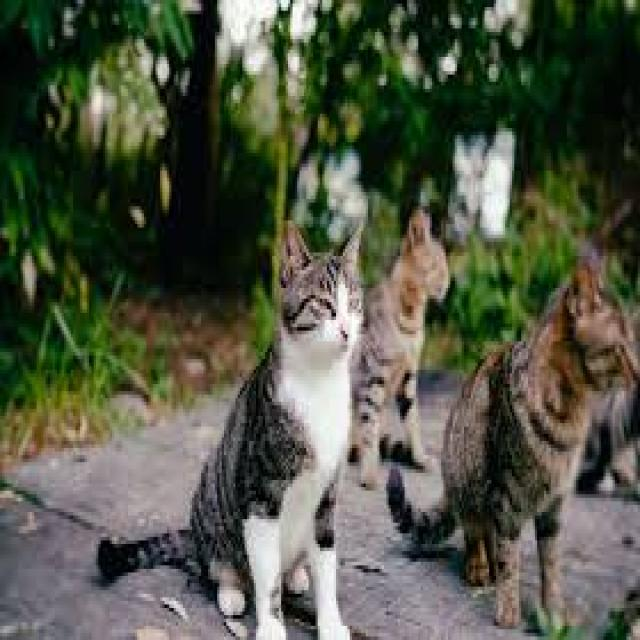cat: (98, 228, 362, 639), (388, 261, 640, 631), (354, 208, 449, 487)
